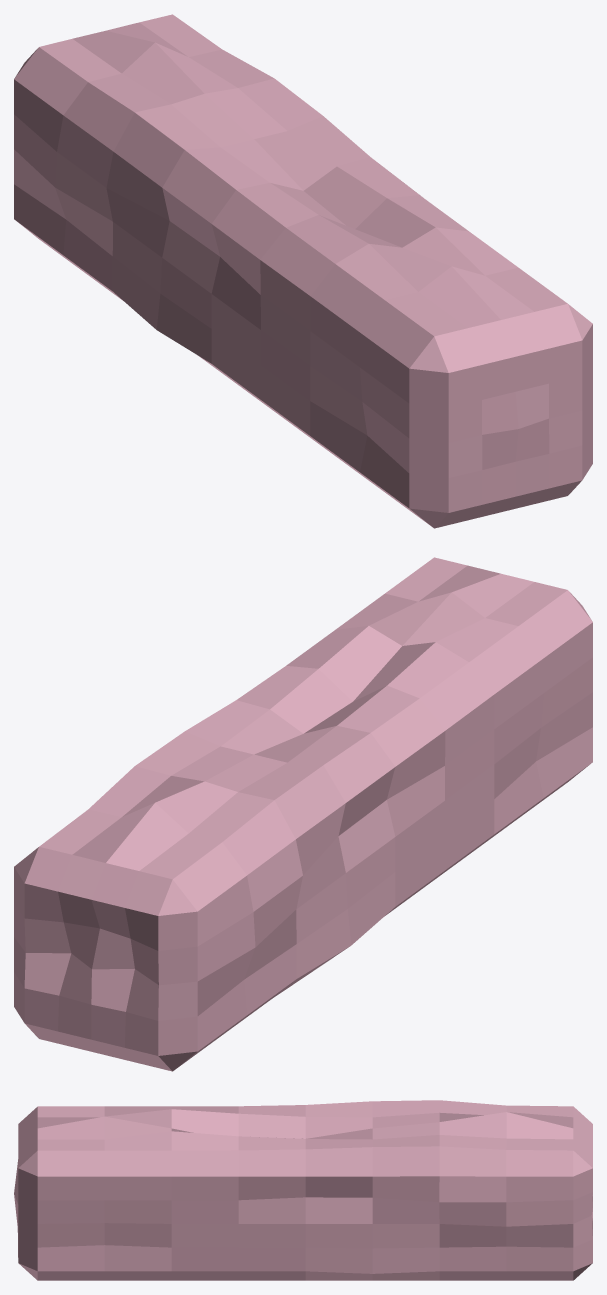
The model's file is RockyWall.fbx.
3 views of the same model, one above another, from view 1: azimuth 30°, elevation 25°; view 2: azimuth 150°, elevation 25°; view 3: azimuth 270°, elevation 25° (orthographic). The views are drawn at different scales.
Visible parts, largest first — view 1: Wall; view 2: Wall; view 3: Wall.
Part boxes in pixels (x1,y1,x2,y2): Wall: [14, 14, 592, 528]; Wall: [14, 557, 592, 1071]; Wall: [14, 1100, 592, 1280].
Size of the model in its own units: 1637 by 1689 by 6044.
